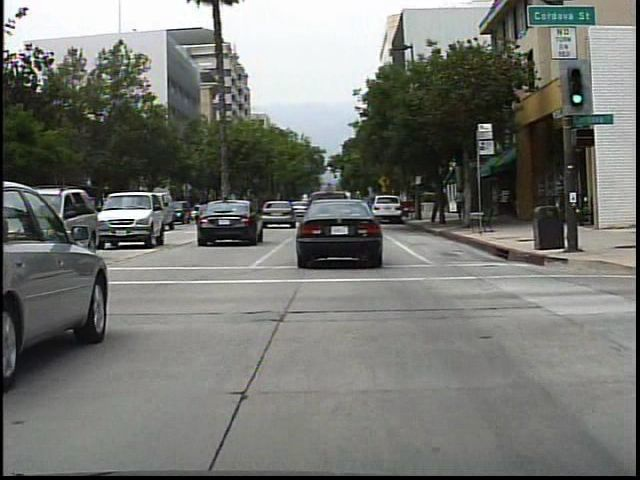person: (452, 185, 472, 224)
